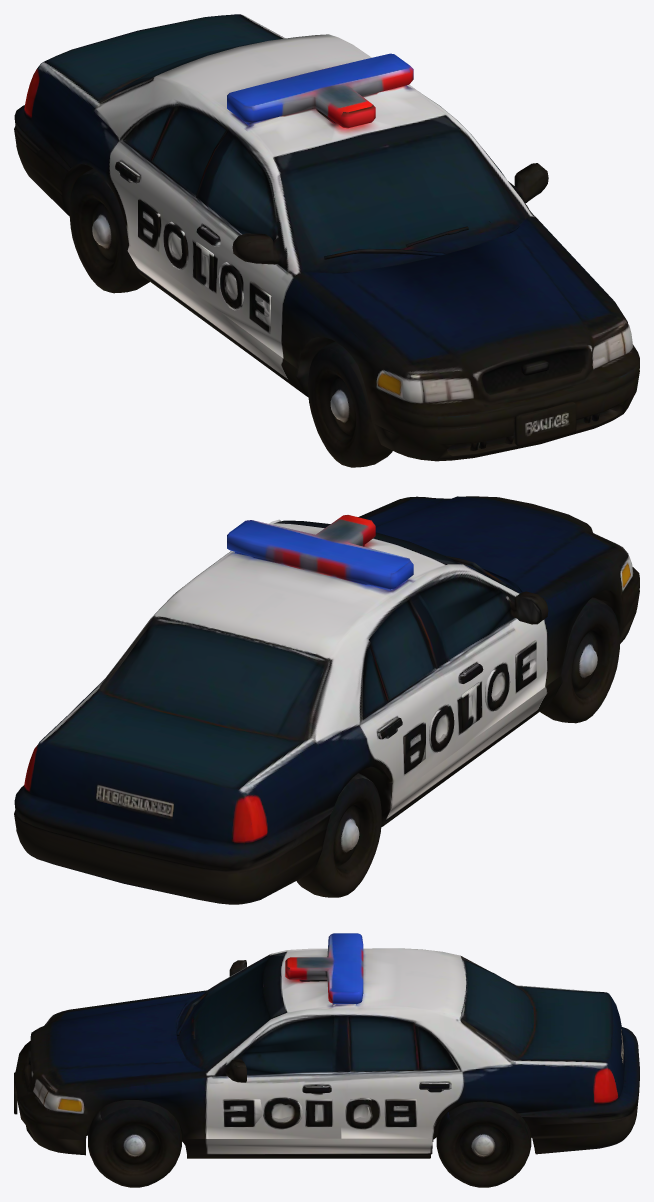
File: a_police_car_c99c8099_v3.glb
3 renders of one model, top to bottom at view 1: azimuth 30°, elevation 25°; view 2: azimuth 150°, elevation 25°; view 3: azimuth 270°, elevation 25°, orthographic. The views are drawn at different scales.
Parts seen in each view (by area): view 1: material; view 2: material; view 3: material.
Boxes of the visible parts, <box> form: material: <box>14,14,639,467</box>; material: <box>14,496,639,904</box>; material: <box>14,933,639,1187</box>.
Size of the model in its own units: 0.7948 by 0.6112 by 1.9.
1 material, 1 textured.
